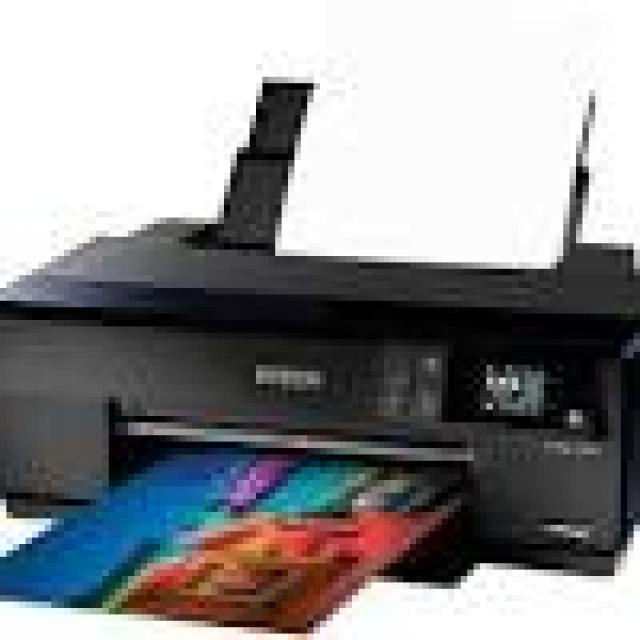printer: (0, 71, 634, 634)
